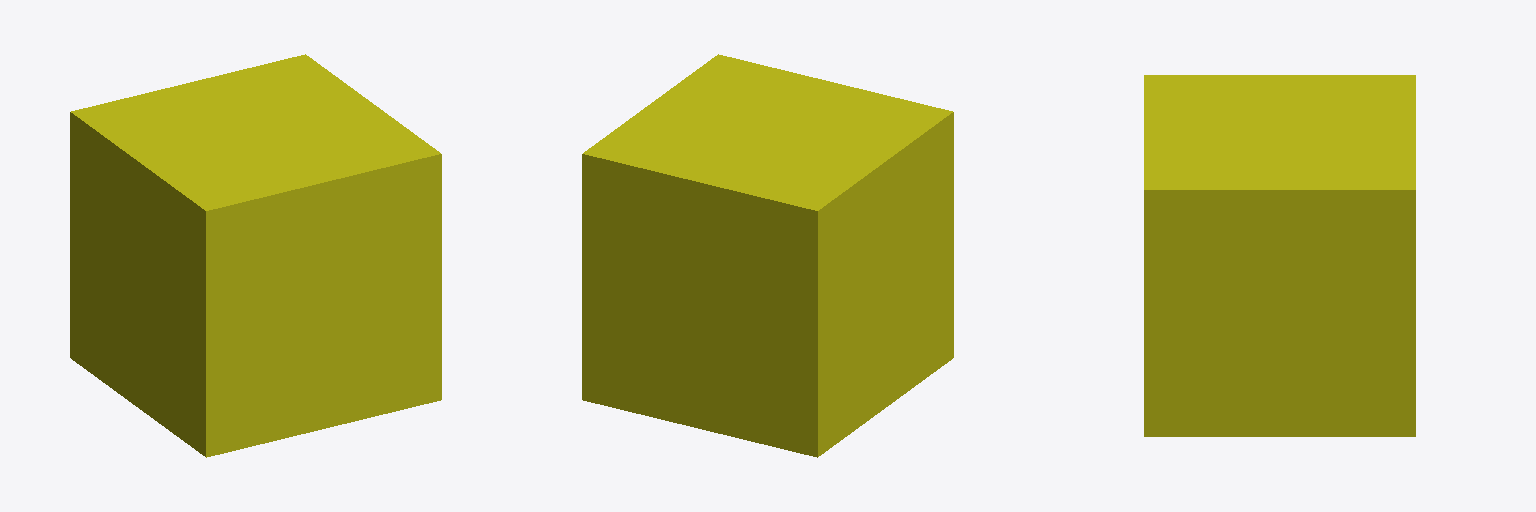
The picture shows the model from 3 angles: view 1: azimuth 30°, elevation 25°; view 2: azimuth 150°, elevation 25°; view 3: azimuth 270°, elevation 25°; orthographic projection.
Visible parts, largest first — view 1: Cube; view 2: Cube; view 3: Cube.
Part boxes in pixels (x1,y1,x2,y2): Cube: (70, 54, 441, 457); Cube: (582, 54, 953, 457); Cube: (1144, 75, 1415, 436).
Bounding box in the file's own units: 12.63 × 12.63 × 12.63.
Materials: 1 (1 with a texture image).